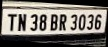character: (7, 13, 18, 31), (17, 13, 27, 31), (58, 13, 67, 30), (30, 13, 38, 31), (39, 13, 47, 31), (50, 13, 58, 31), (70, 13, 78, 30), (86, 13, 94, 30), (78, 13, 86, 29), (94, 14, 102, 30)
